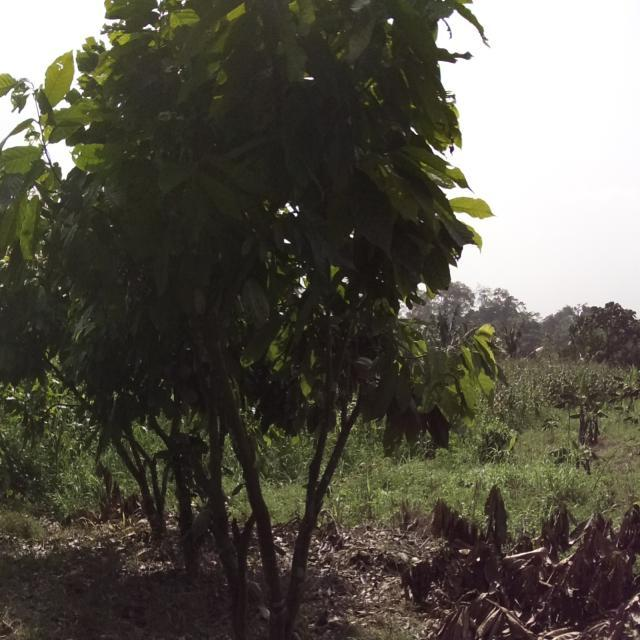Mature_Unripe: (244, 278, 272, 328), (192, 508, 218, 552), (351, 353, 375, 380), (246, 577, 269, 603)
